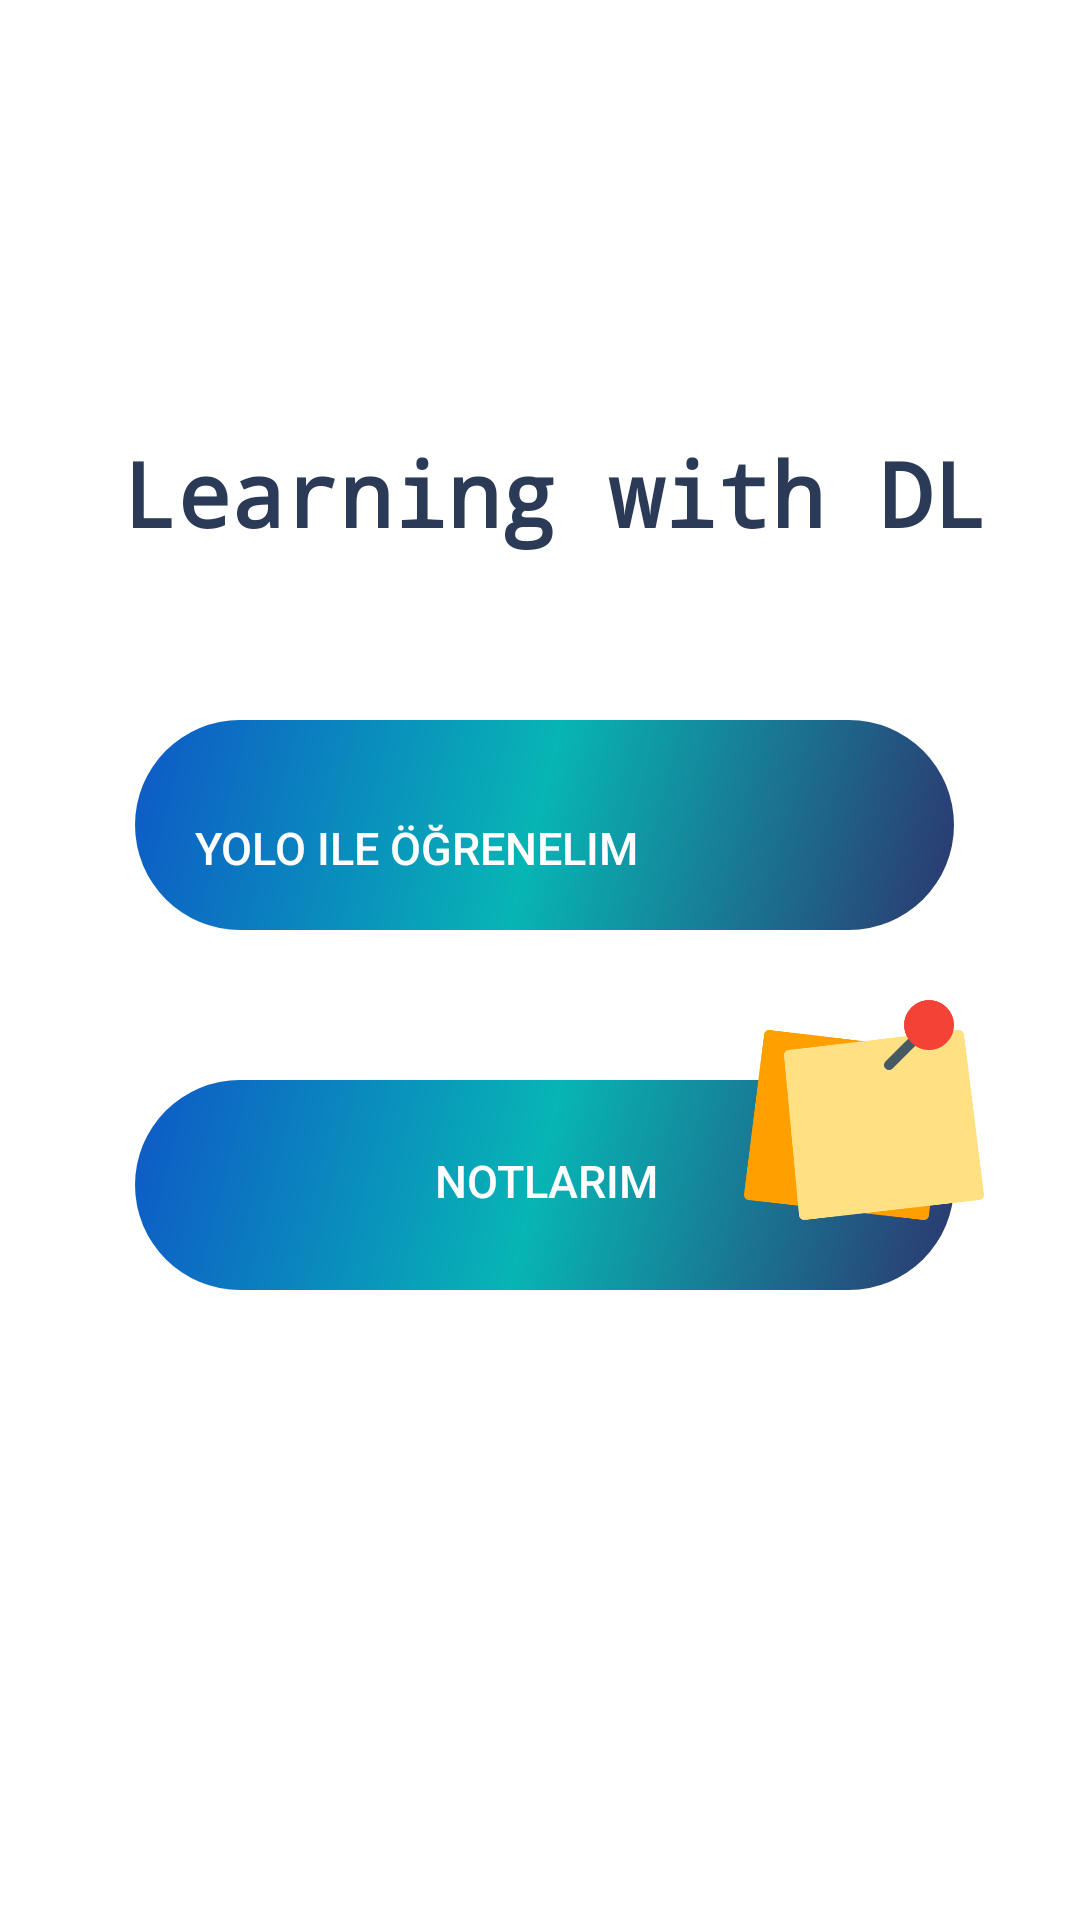

Named icons in this screenshot (1080px x 1920px) and their bounding boxes, (left=x1, top=y1, right=x2, bottom=y2):
not: (left=729, top=1000, right=984, bottom=1230)
